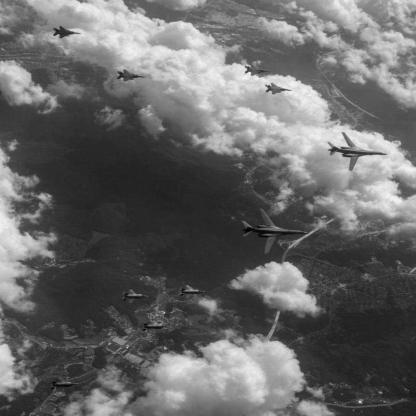B1: (242, 209, 311, 255), (328, 133, 389, 172)
F15: (118, 70, 147, 83), (54, 27, 83, 40), (266, 83, 293, 96), (245, 64, 272, 77)
F35: (143, 321, 171, 335), (180, 286, 208, 300), (123, 290, 150, 304)
